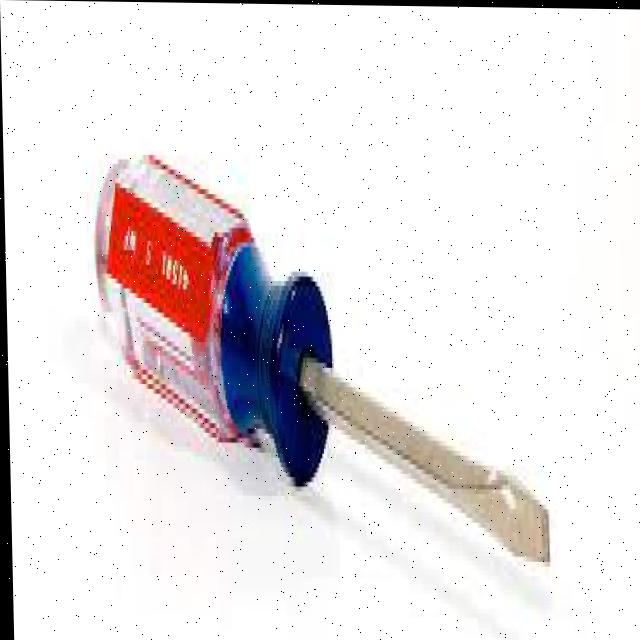Screwdriver: (94, 156, 547, 557)
